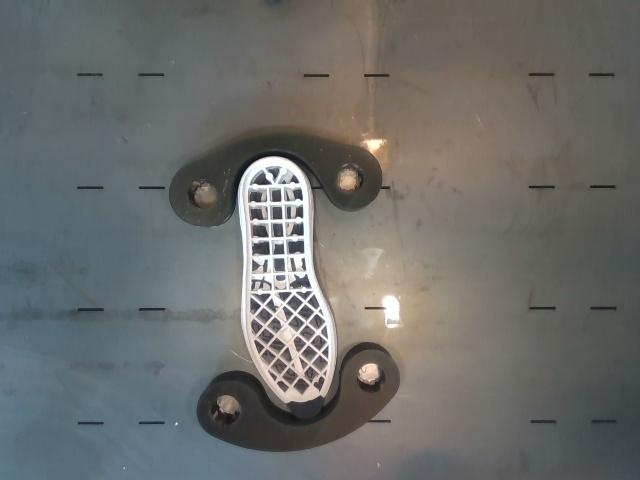shoes: (242, 157, 335, 418)
